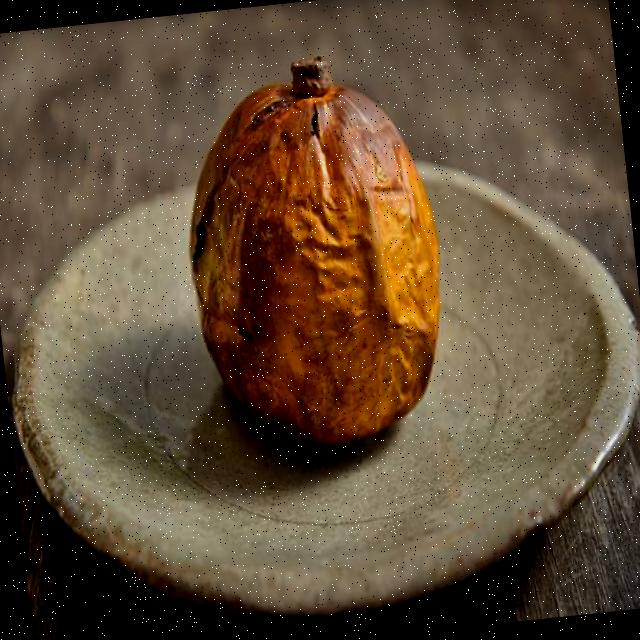overripe: (162, 44, 460, 463)
